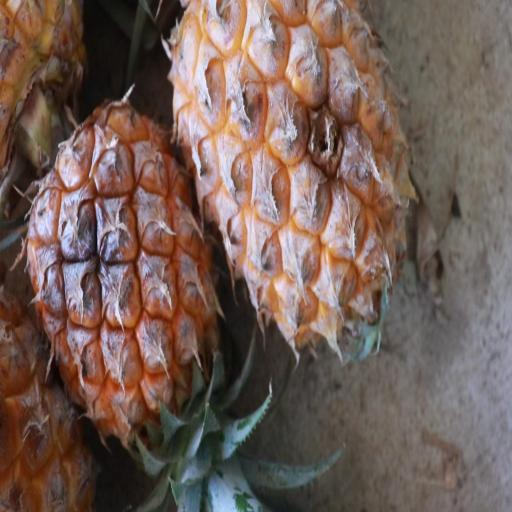Pineapple - v8 v1: (161, 2, 420, 367), (21, 106, 224, 470)
